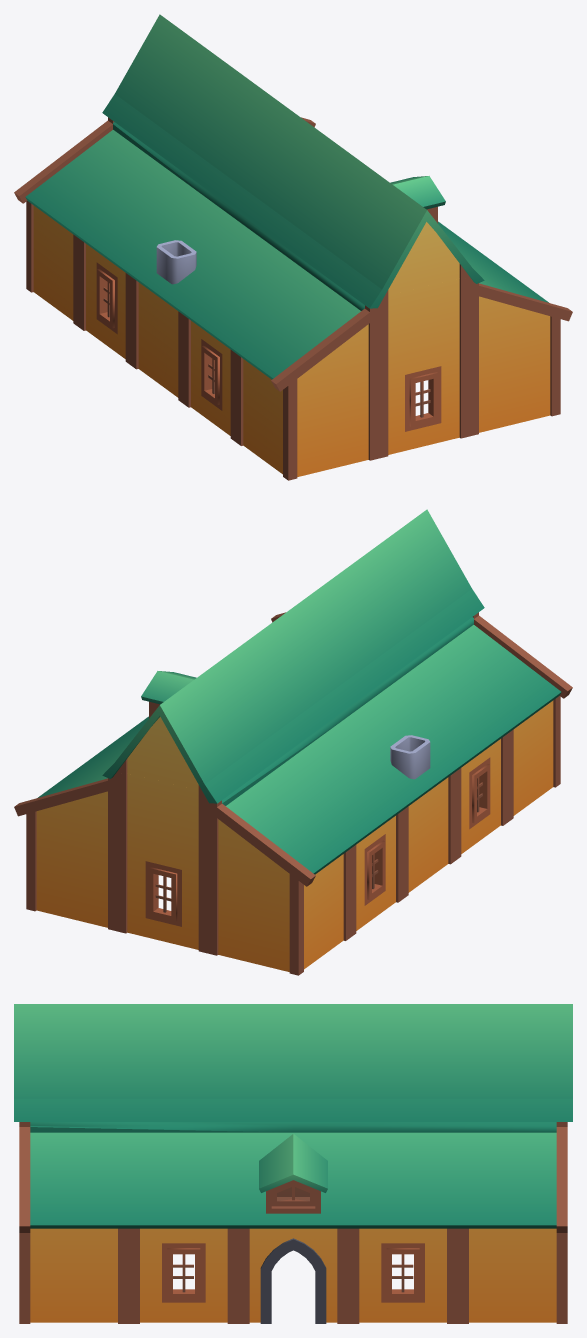
The model's file is Farm01.glb.
The picture shows the model from 3 angles, top to bottom: view 1: azimuth 30°, elevation 25°; view 2: azimuth 150°, elevation 25°; view 3: azimuth 270°, elevation 25°; orthographic projection. The views are drawn at different scales.
Visible parts, largest first — view 1: Farm, chimney01; view 2: Farm, chimney01; view 3: Farm.
Boxes of the visible parts, x1,y1,x2,y2 form: Farm: [14, 14, 572, 480]; chimney01: [156, 240, 196, 284]; Farm: [14, 509, 572, 975]; chimney01: [390, 735, 430, 779]; Farm: [14, 1004, 572, 1323].
Size of what is drawn, in the model's own units: 6.54 by 5.04 by 10.2.
Materials: 10 (10 with a texture image).
